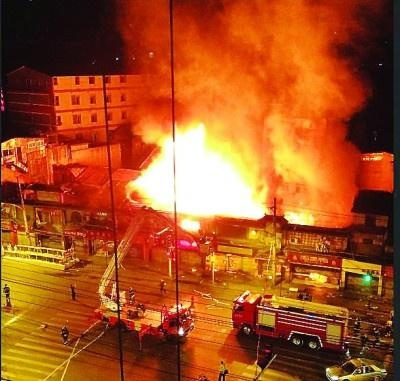fire: (125, 117, 273, 234), (283, 209, 315, 228)
